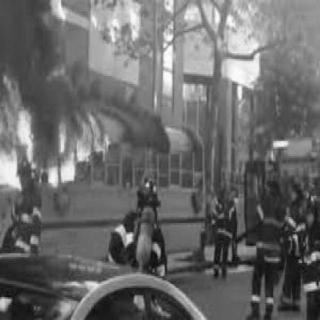Fire: (1, 56, 113, 206)
Smoke: (0, 0, 52, 71)
